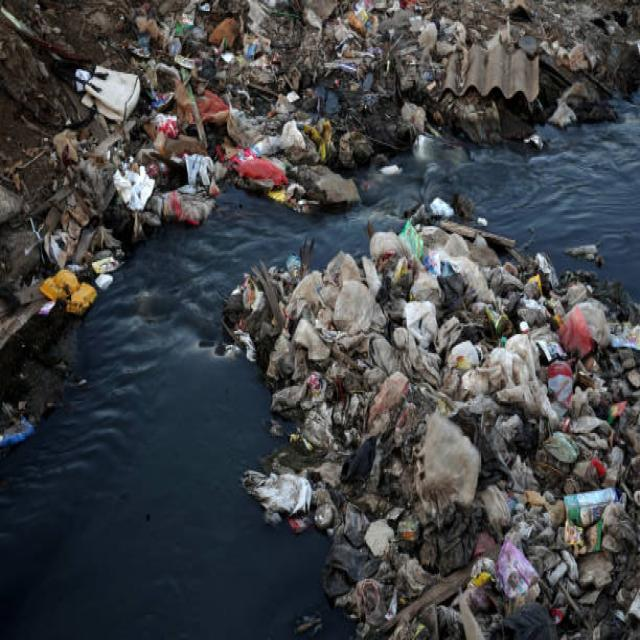trash: (262, 262, 604, 554), (21, 30, 529, 207)
